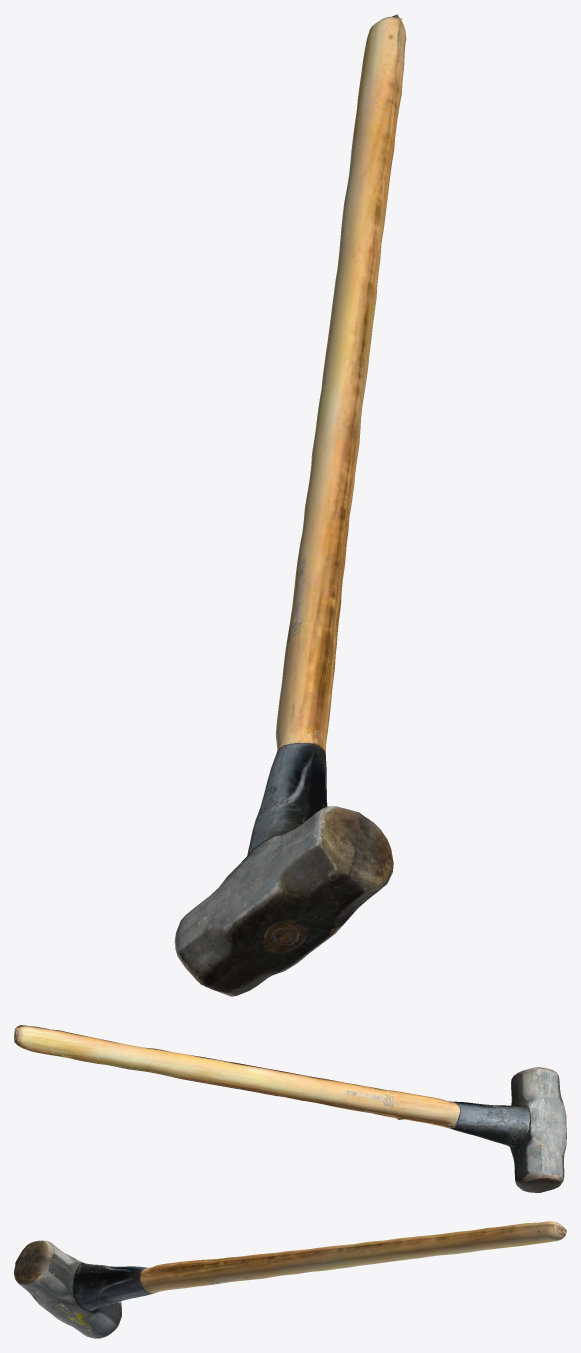
Rendered from mazo.glb.
3 renders of one model, top to bottom at view 1: azimuth 30°, elevation 25°; view 2: azimuth 150°, elevation 25°; view 3: azimuth 270°, elevation 25°, orthographic. The views are drawn at different scales.
Visible parts, largest first — view 1: mazo; view 2: mazo; view 3: mazo.
Part boxes in pixels (x1=…): mazo: x1=174, y1=14, x2=406, y2=996; mazo: x1=14, y1=1025, x2=566, y2=1192; mazo: x1=14, y1=1221, x2=566, y2=1338.
Size of the model in its own units: 0.372 by 0.2736 by 0.515.
Materials: 1 (1 with a texture image).
